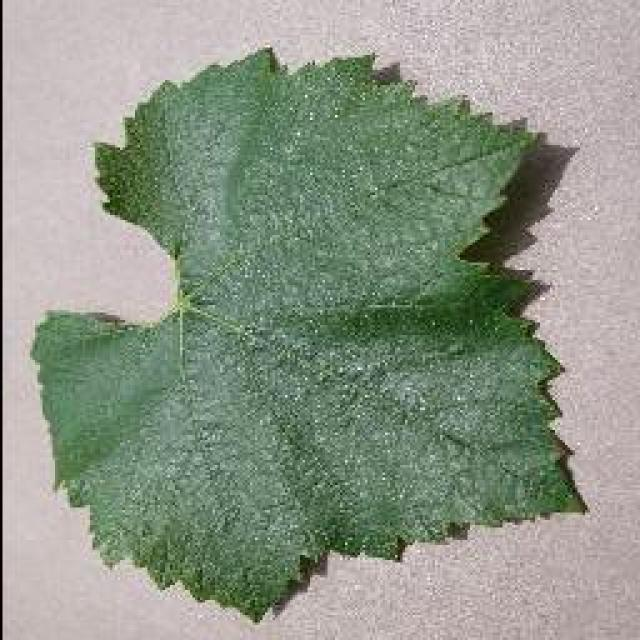Grape___healthy: (35, 52, 572, 612)
